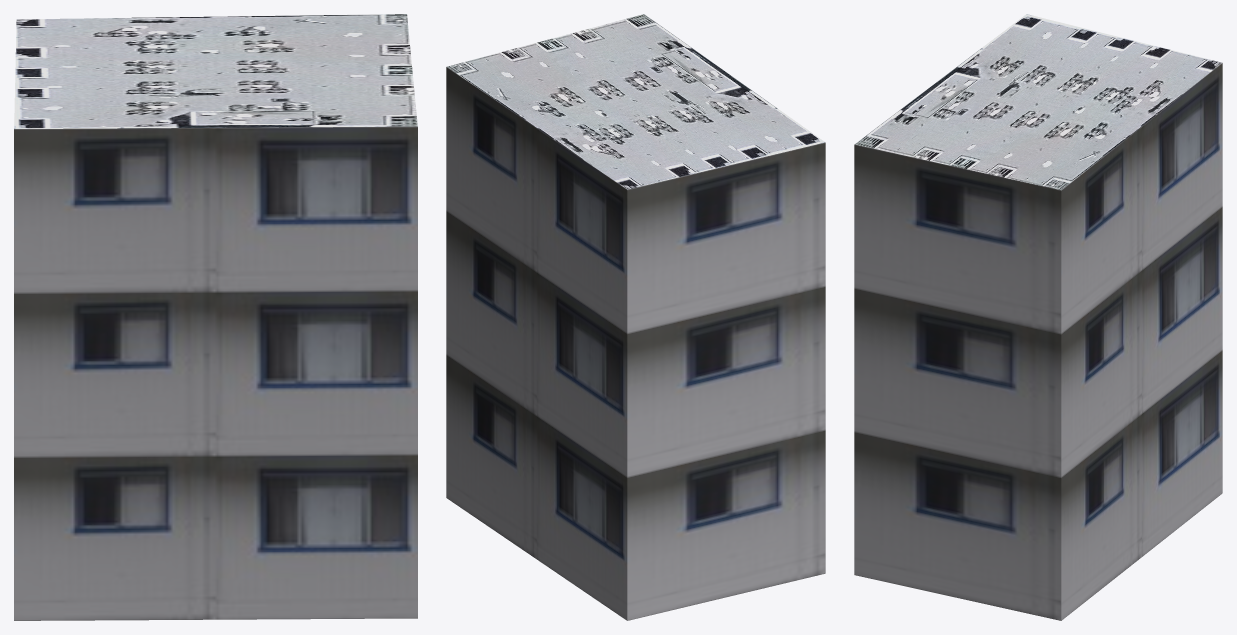
Rendered from ResTex__4036.fbx.
The picture shows the model from 3 angles, left to right: view 1: azimuth 30°, elevation 25°; view 2: azimuth 150°, elevation 25°; view 3: azimuth 270°, elevation 25°; orthographic projection. The views are drawn at different scales.
Parts seen in each view (by area): view 1: CityEngineMaterial_9_m, CityEngineMaterial_m; view 2: CityEngineMaterial_9_m, CityEngineMaterial_m; view 3: CityEngineMaterial_9_m, CityEngineMaterial_m.
Boxes of the visible parts, left/top/right/bottom form: CityEngineMaterial_9_m: left=14, top=126, right=417, bottom=620; CityEngineMaterial_m: left=14, top=14, right=417, bottom=128; CityEngineMaterial_9_m: left=446, top=67, right=825, bottom=620; CityEngineMaterial_m: left=446, top=14, right=824, bottom=189; CityEngineMaterial_9_m: left=854, top=63, right=1222, bottom=620; CityEngineMaterial_m: left=855, top=14, right=1221, bottom=190.
Bounding box in the file's own units: 7.9 × 9 × 6.97.
Materials: 2 (2 with a texture image).
